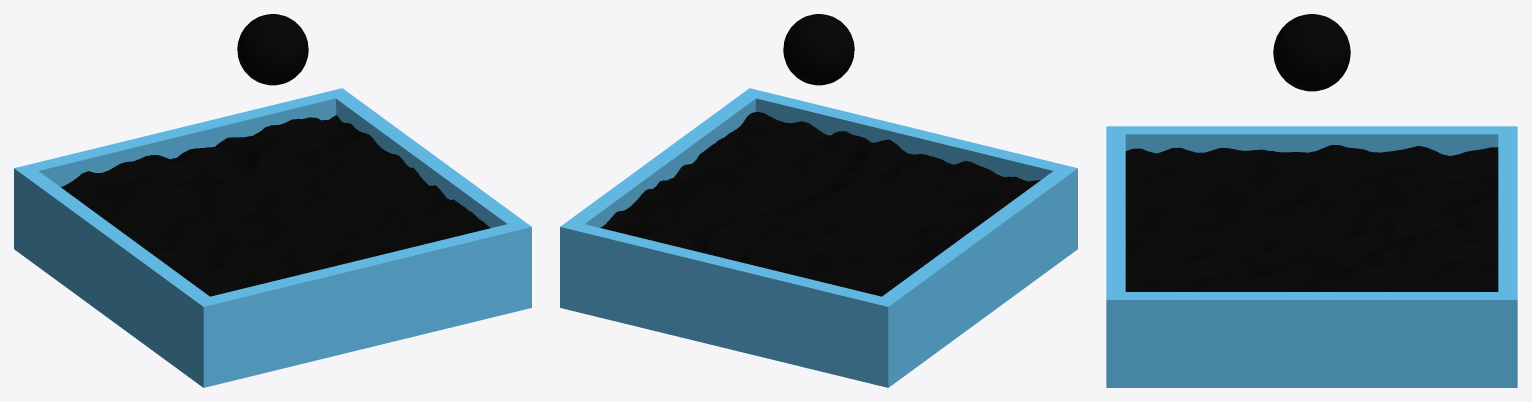
Rendered from pool.dae.
The picture shows the model from 3 angles, left to right: view 1: azimuth 30°, elevation 25°; view 2: azimuth 150°, elevation 25°; view 3: azimuth 270°, elevation 25°; orthographic projection. The views are drawn at different scales.
Parts seen in each view (by area): view 1: 円柱, Wave_Object, 球体; view 2: 円柱, Wave_Object, 球体; view 3: 円柱, Wave_Object, 球体.
Boxes of the visible parts, box(x1,y1,x2,y2) form: 円柱: box(14, 88, 531, 387); Wave_Object: box(61, 115, 490, 296); 球体: box(237, 14, 308, 85); 円柱: box(560, 88, 1077, 387); Wave_Object: box(600, 112, 1040, 296); 球体: box(783, 14, 854, 85); 円柱: box(1106, 126, 1517, 387); Wave_Object: box(1125, 145, 1498, 291); 球体: box(1273, 14, 1350, 91).
Bounding box in the file's own units: 1.06 × 0.8064 × 1.06.
